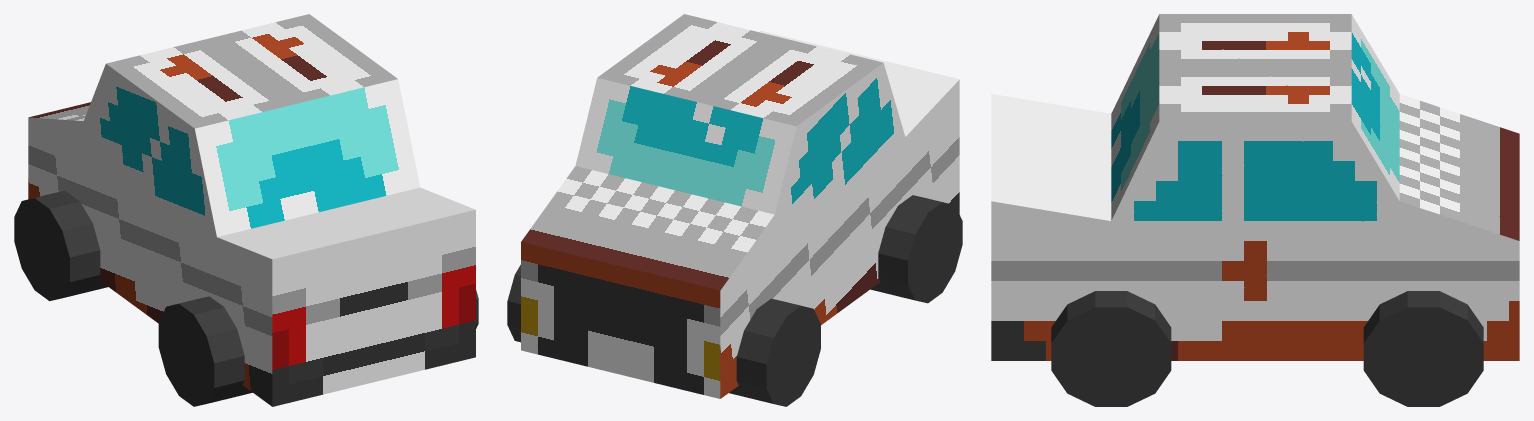
File: Car.obj
3 renders of one model, left to right at view 1: azimuth 30°, elevation 25°; view 2: azimuth 150°, elevation 25°; view 3: azimuth 270°, elevation 25°, orthographic. The views are drawn at different scales.
Visible parts, largest first — view 1: cylinder; view 2: cylinder; view 3: cylinder.
Part boxes in pixels (bbox=[...]): cylinder: bbox=[14, 14, 478, 406]; cylinder: bbox=[507, 14, 962, 406]; cylinder: bbox=[991, 14, 1519, 406].
Bounding box in the file's own units: 0.9375 × 0.8438 × 1.5.
Materials: 1 (1 with a texture image).
